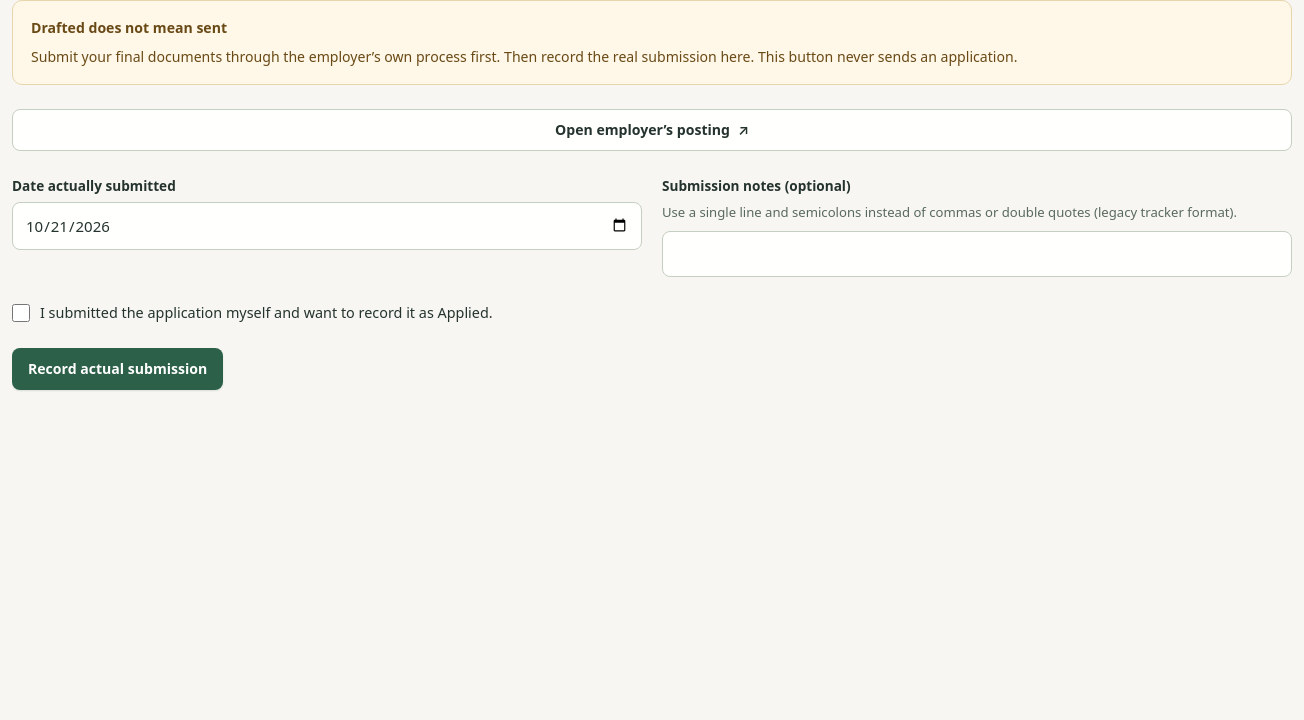
it: real user actions and untrusted input › records Applied only after explicit acknowledgement of a real submission
Click the button "Record actual submission".
click(118, 369)  # box [12,348,223,390]
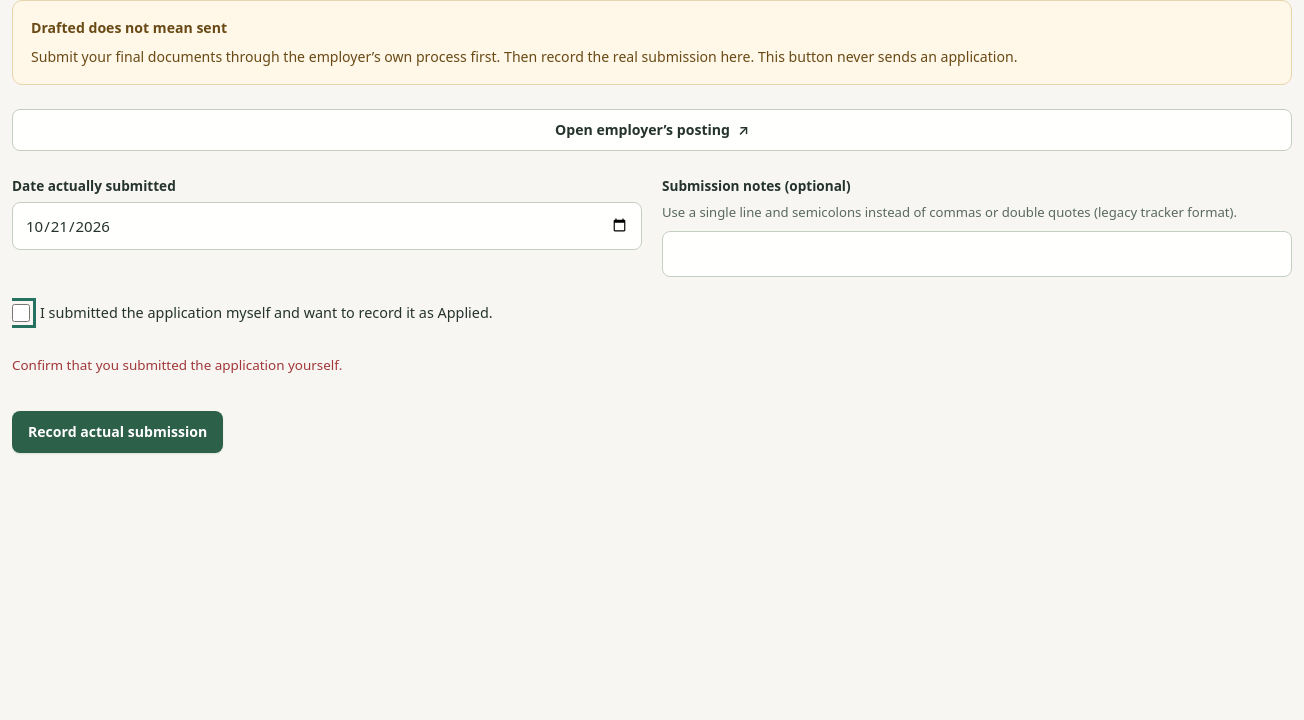
Now the text "Confirm that you submitted the application yourself." is shown, box [12,356,342,374]
Click the checkbox labelled "I submitted the application myself and want to record it as Applied.".
click(21, 313)  # box [12,304,30,322]
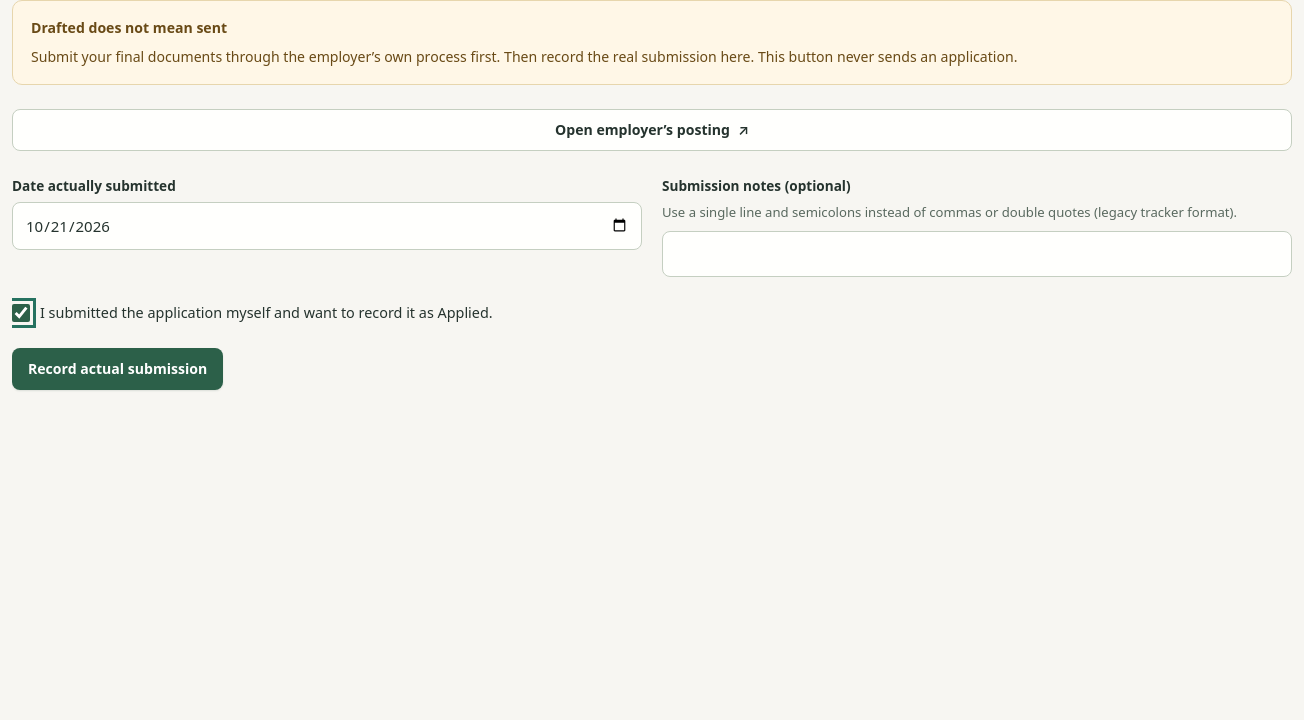
Click the button "Record actual submission".
click(118, 369)  # box [12,348,223,390]
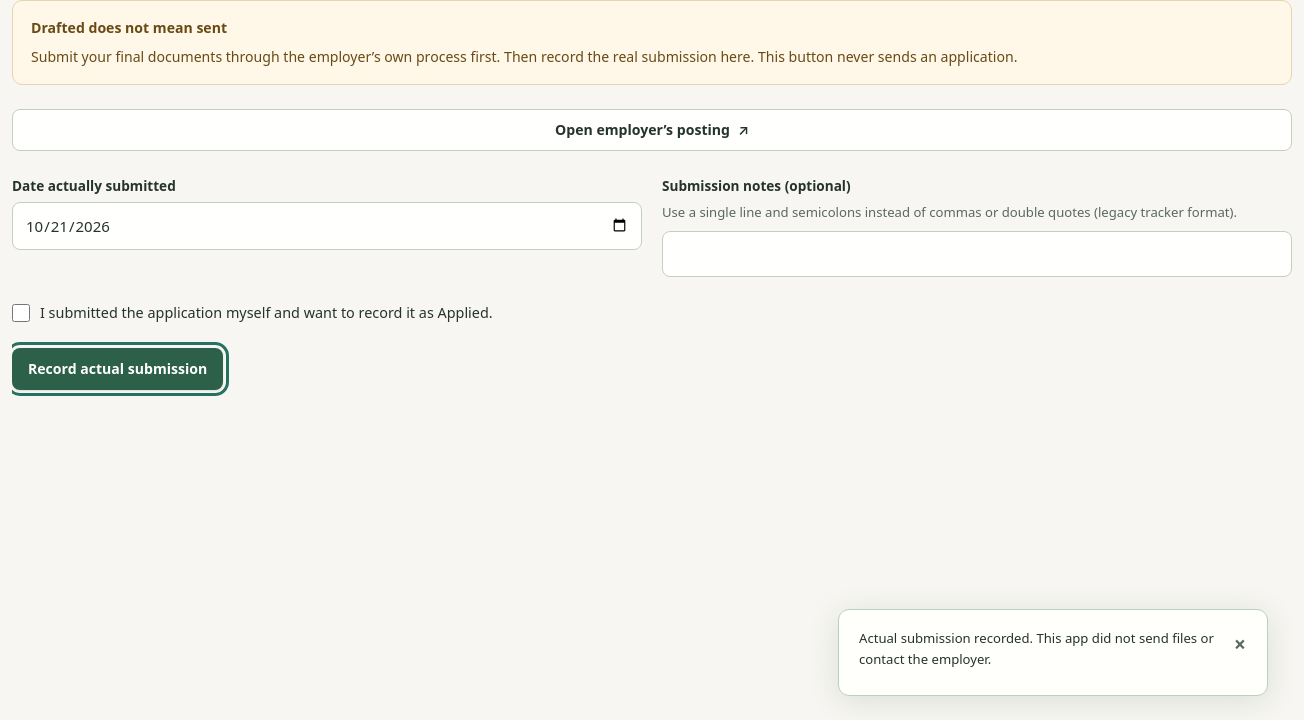
Now the text "This app did not send files or contact the employer" is shown, box [859,629,1214,668]
